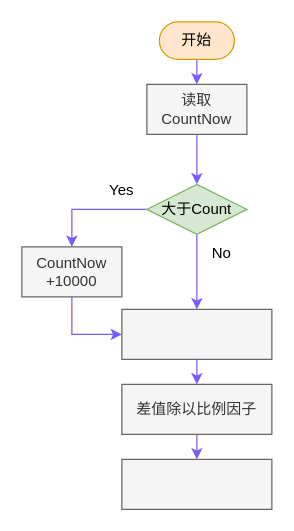
The diagram is 294 pixels wide and 531 high, and some of its shapes have lost their labels. Here are the shapes that lost their labels. From the top down, the centre of each, then its label:
At point 196,333: "Count - CountNow".
At point 196,483: "Kilometer + 计算结果".
